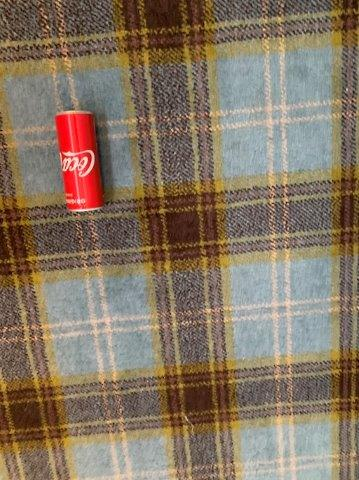kaleng: (55, 112, 103, 211)
